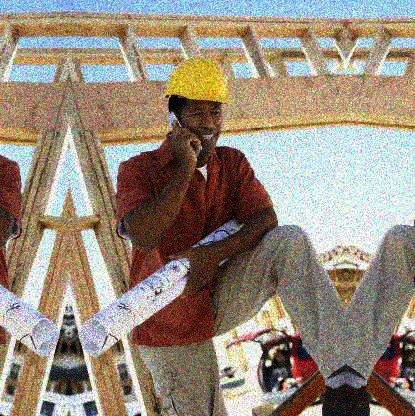helmet: (165, 57, 231, 152)
